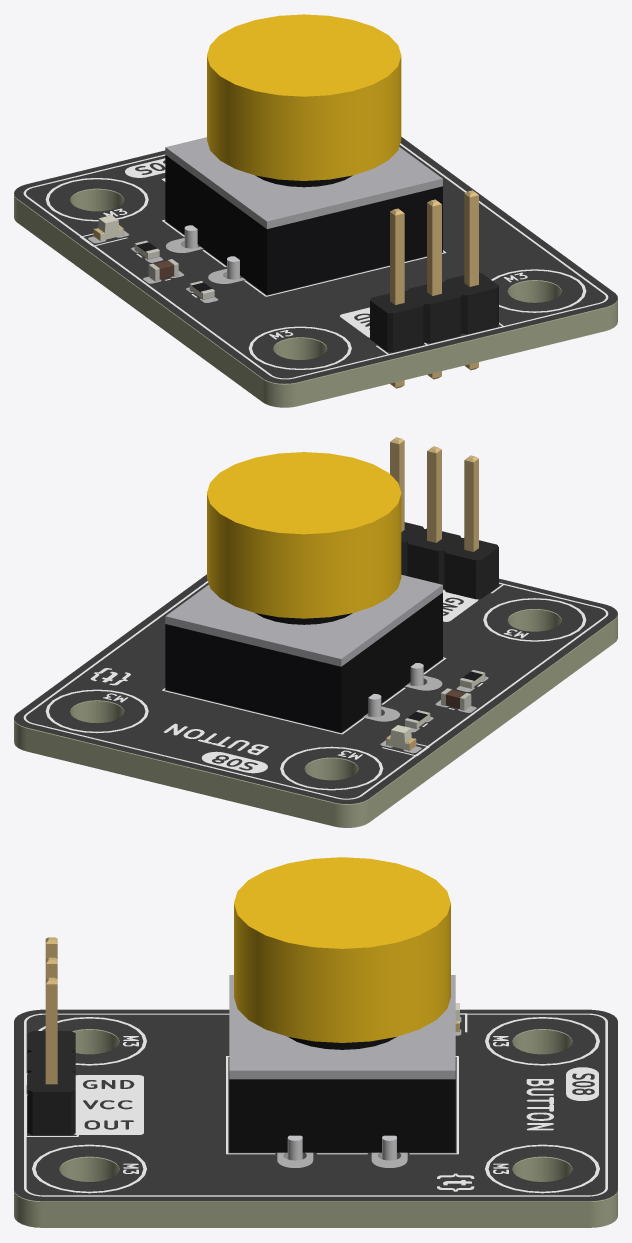
The picture shows the model from 3 angles, top to bottom: view 1: azimuth 30°, elevation 25°; view 2: azimuth 150°, elevation 25°; view 3: azimuth 270°, elevation 25°; orthographic projection. The views are drawn at different scales.
Parts seen in each view (by area): view 1: =>[0:1:1:10], SW_Push_12mm_Cap_3, =>[0:1:1:12], SW_Push_12mm_Cap_0, J1, SW_Push_12mm_Cap_1, =>[0:1:1:8], =>[0:1:1:7], SW_Push_12mm_Cap_4, D1; view 2: =>[0:1:1:10], SW_Push_12mm_Cap_3, SW_Push_12mm_Cap_0, =>[0:1:1:12], SW_Push_12mm_Cap_1, J1, =>[0:1:1:8], =>[0:1:1:7], SW_Push_12mm_Cap_4, D1; view 3: =>[0:1:1:10], SW_Push_12mm_Cap_3, =>[0:1:1:12], SW_Push_12mm_Cap_0, =>[0:1:1:8], SW_Push_12mm_Cap_1, J1, =>[0:1:1:7], SW_Push_12mm_Cap_4, SW_Push_12mm_Cap_2.
Boxes of the visible parts, x1=… form: =>[0:1:1:10]: x1=14, y1=137, x2=617, y2=383; SW_Push_12mm_Cap_3: x1=207, y1=14, x2=401, y2=180; =>[0:1:1:12]: x1=14, y1=188, x2=617, y2=407; SW_Push_12mm_Cap_0: x1=165, y1=155, x2=442, y2=294; J1: x1=370, y1=190, x2=498, y2=388; SW_Push_12mm_Cap_1: x1=165, y1=137, x2=442, y2=228; =>[0:1:1:8]: x1=23, y1=143, x2=608, y2=379; =>[0:1:1:7]: x1=88, y1=231, x2=245, y2=302; SW_Push_12mm_Cap_4: x1=184, y1=225, x2=240, y2=279; D1: x1=93, y1=215, x2=123, y2=241; =>[0:1:1:10]: x1=14, y1=574, x2=617, y2=803; SW_Push_12mm_Cap_3: x1=207, y1=452, x2=401, y2=618; SW_Push_12mm_Cap_0: x1=165, y1=592, x2=442, y2=732; =>[0:1:1:12]: x1=14, y1=609, x2=617, y2=827; SW_Push_12mm_Cap_1: x1=165, y1=575, x2=442, y2=666; J1: x1=390, y1=437, x2=498, y2=599; =>[0:1:1:8]: x1=23, y1=581, x2=608, y2=799; =>[0:1:1:7]: x1=362, y1=675, x2=488, y2=753; SW_Push_12mm_Cap_4: x1=367, y1=663, x2=423, y2=716; D1: x1=386, y1=725, x2=416, y2=750; =>[0:1:1:10]: x1=14, y1=1009, x2=617, y2=1201; SW_Push_12mm_Cap_3: x1=234, y1=857, x2=450, y2=1042; =>[0:1:1:12]: x1=14, y1=1016, x2=617, y2=1227; SW_Push_12mm_Cap_0: x1=229, y1=1079, x2=455, y2=1152; =>[0:1:1:8]: x1=24, y1=1013, x2=607, y2=1196; SW_Push_12mm_Cap_1: x1=229, y1=975, x2=455, y2=1079; J1: x1=27, y1=937, x2=75, y2=1135; =>[0:1:1:7]: x1=277, y1=1017, x2=461, y2=1167; SW_Push_12mm_Cap_4: x1=287, y1=1135, x2=396, y2=1160; SW_Push_12mm_Cap_2: x1=288, y1=1037, x2=396, y2=1049.
Bounding box in the file's own units: 0.024 × 0.0153 × 0.032.
